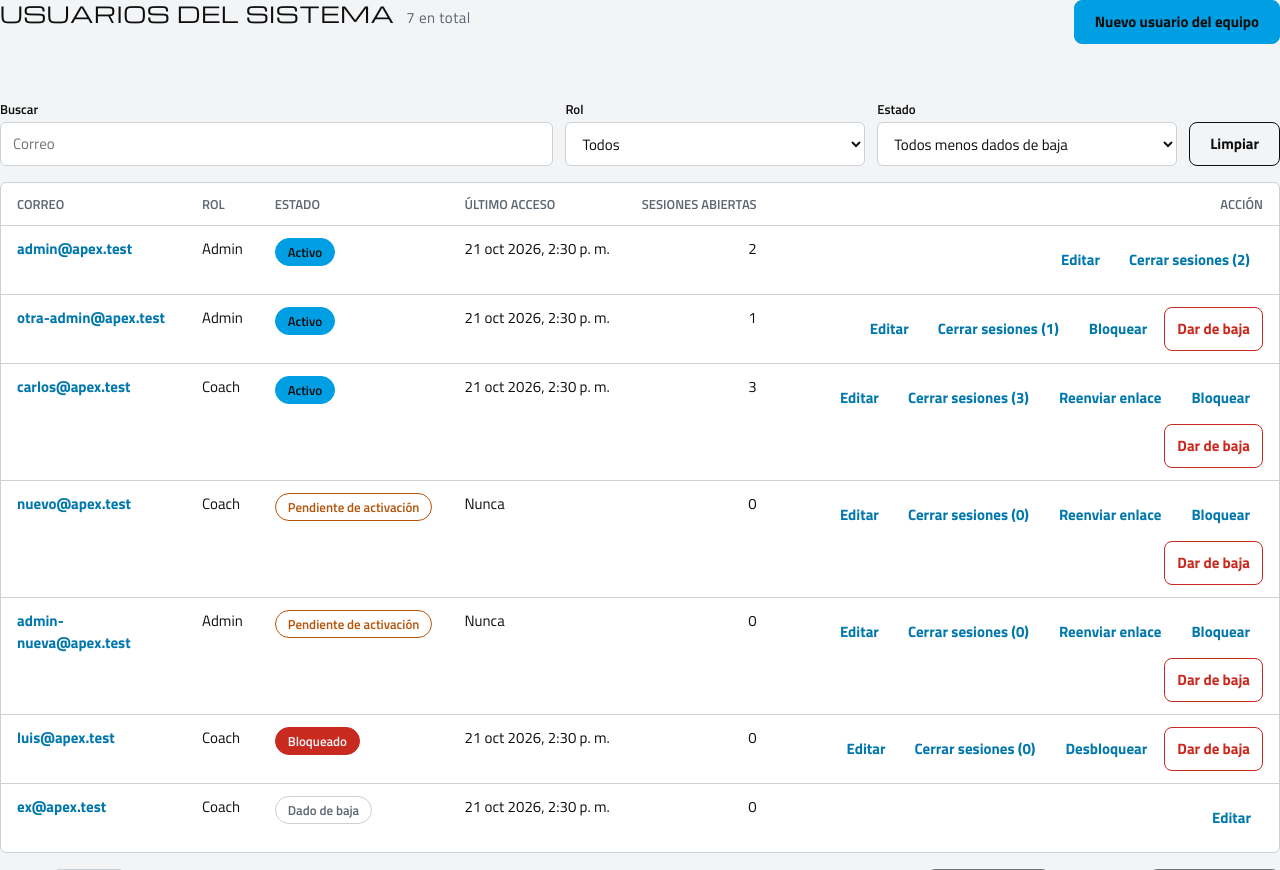
Scenario: LinkModal · generar (US-052) › un enlace de activación dice que vence en 72 horas
Step 1. Click the button "Reenviar enlace" in the row of "nuevo@apex.test" → (1110, 515), box [1046,493,1174,537]
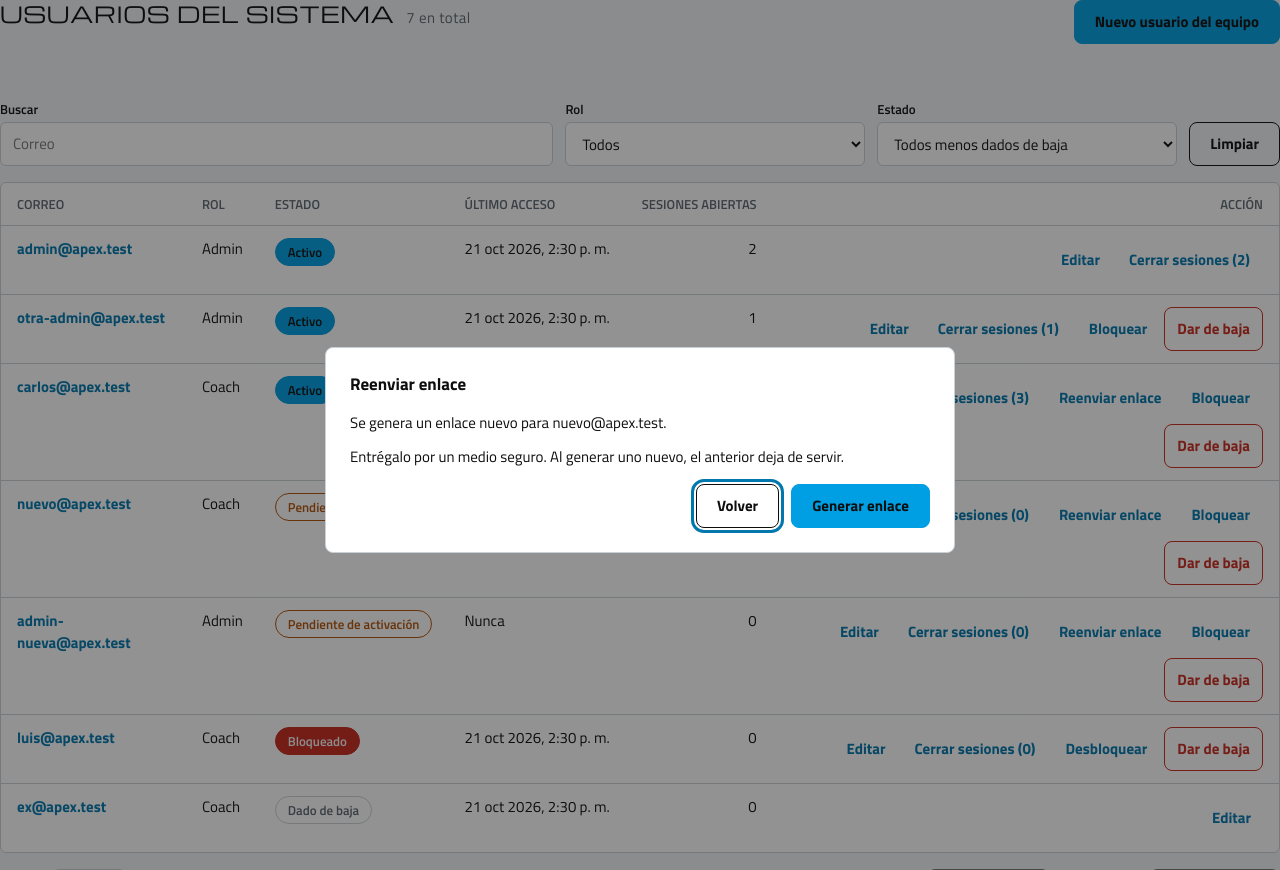
Step 2. Click the button "Generar enlace" → (861, 506), box [791,484,930,528]
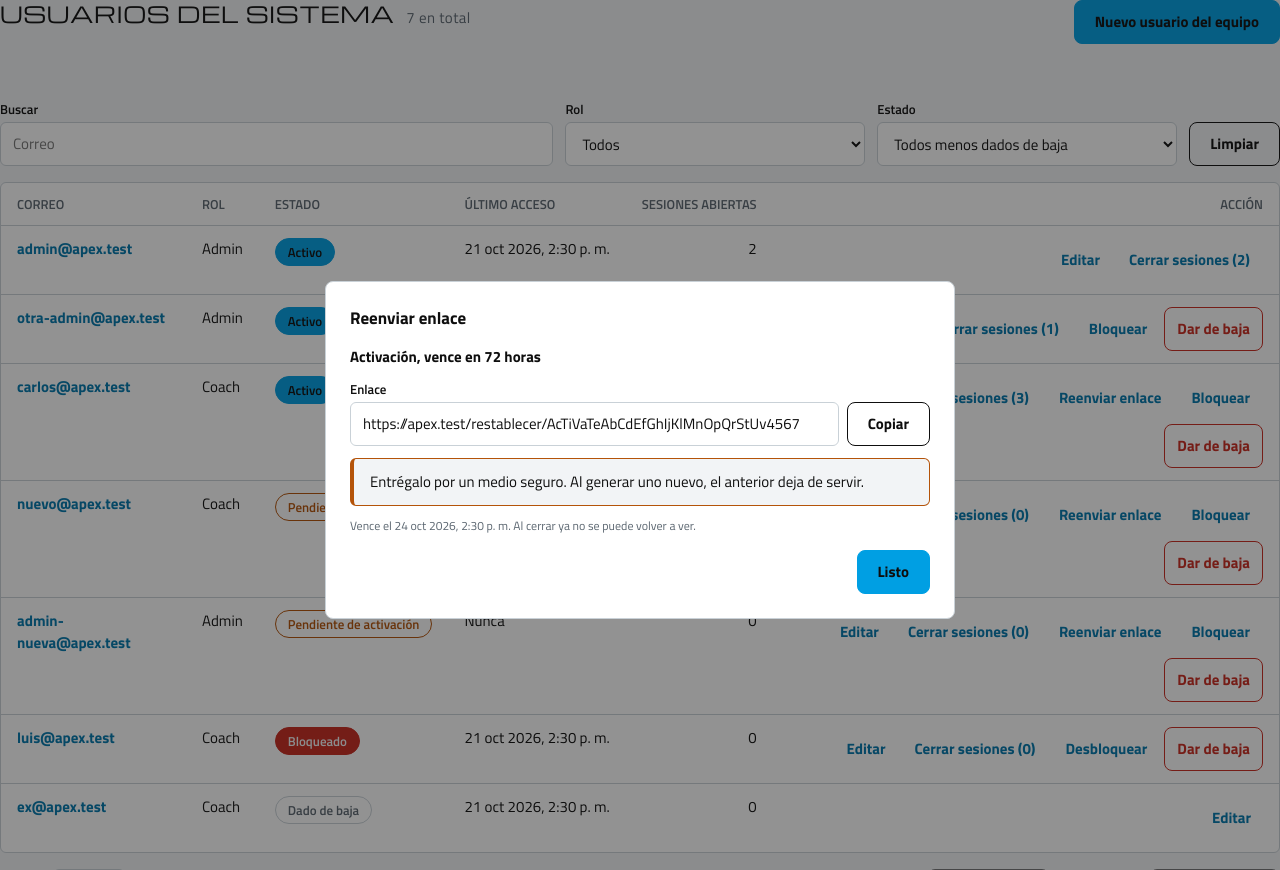
expect the text "Activación, vence en 72 horas" is shown: met, box [350,345,541,368]
expect the dialog "Reenviar enlace" shows "Vence el 24 oct 2026, 2:30 p. m.": met, box [350,516,696,535]
